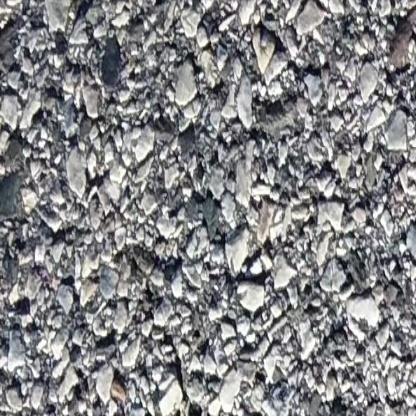Cracks: (155, 412, 274, 416)
